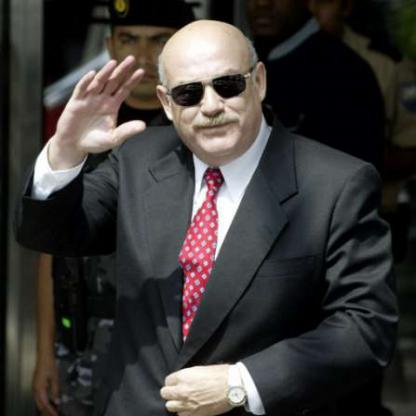face: (166, 22, 262, 157), (112, 1, 190, 99)
